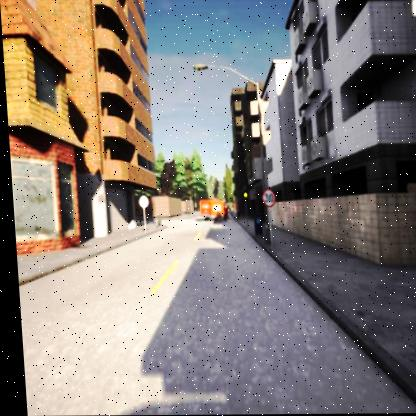vehicle: (196, 200, 224, 222)
